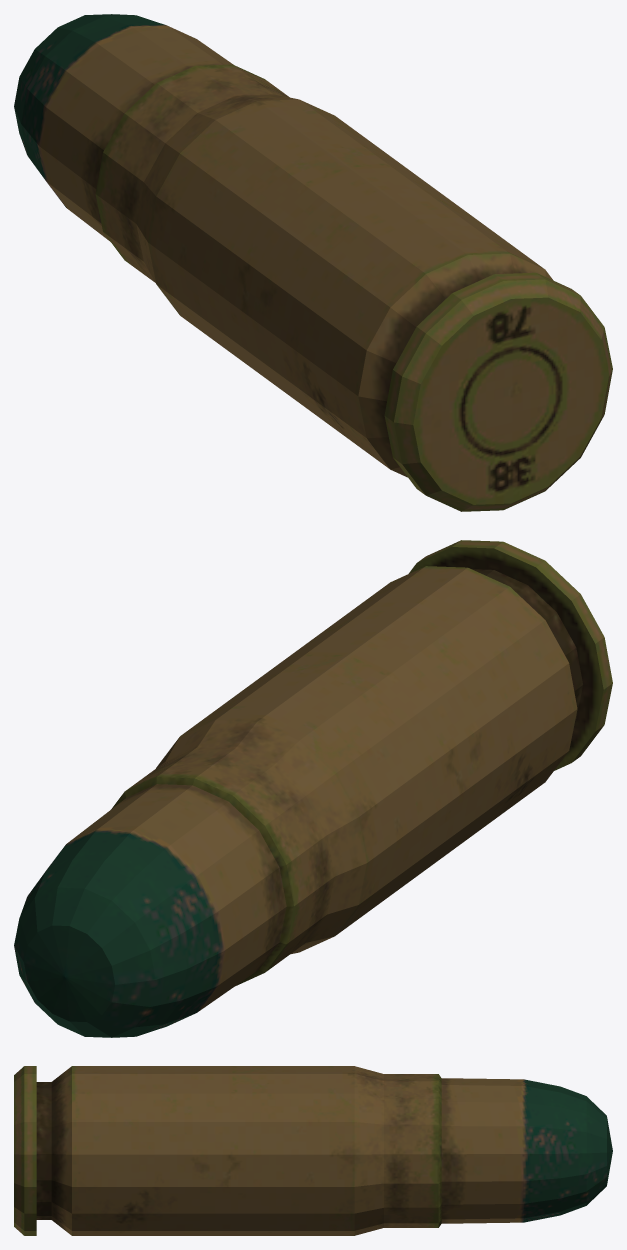
3 renders of one model, top to bottom at view 1: azimuth 30°, elevation 25°; view 2: azimuth 150°, elevation 25°; view 3: azimuth 270°, elevation 25°, orthographic. The views are drawn at different scales.
Parts seen in each view (by area): view 1: TW_573603c924597764442bd9cb_PZ_Import; view 2: TW_573603c924597764442bd9cb_PZ_Import; view 3: TW_573603c924597764442bd9cb_PZ_Import.
Boxes of the visible parts, x1=… form: TW_573603c924597764442bd9cb_PZ_Import: x1=14, y1=14, x2=612, y2=511; TW_573603c924597764442bd9cb_PZ_Import: x1=14, y1=540, x2=612, y2=1037; TW_573603c924597764442bd9cb_PZ_Import: x1=14, y1=1066, x2=612, y2=1235.
Bounding box in the file's own units: 0.00575 × 0.0203 × 0.00575.
1 material, 1 textured.
